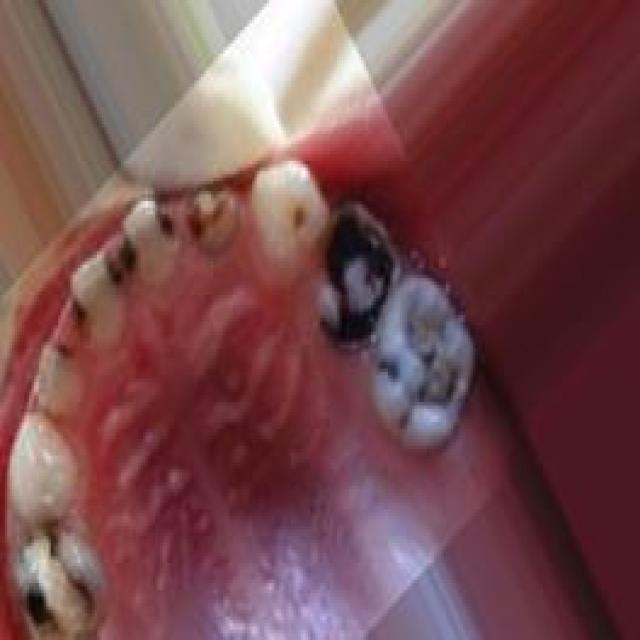caries: (362, 274, 477, 453), (307, 196, 399, 352), (7, 516, 111, 640), (63, 252, 128, 350), (119, 198, 178, 290), (186, 183, 247, 266), (32, 336, 87, 412), (279, 185, 320, 241)
